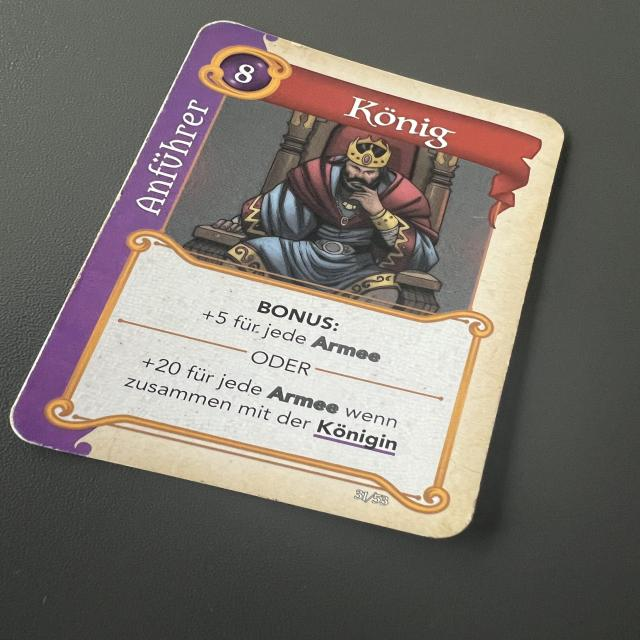King: (6, 16, 578, 544)
